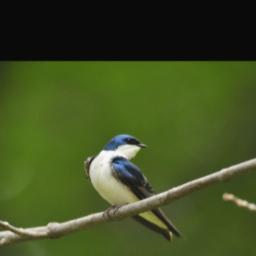Swallow: (82, 133, 184, 242)
